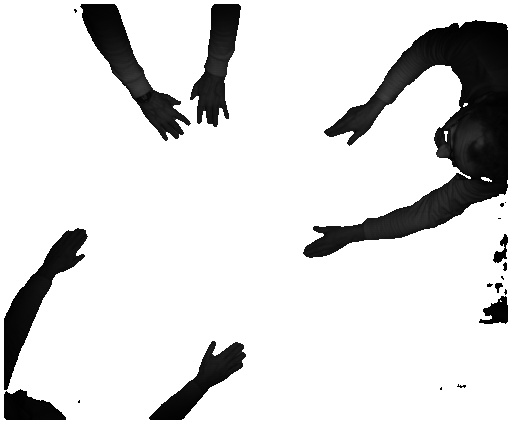hand: (320, 104, 377, 151), (200, 336, 247, 388), (142, 95, 192, 143), (43, 224, 87, 277), (296, 224, 353, 263), (191, 77, 231, 127)
